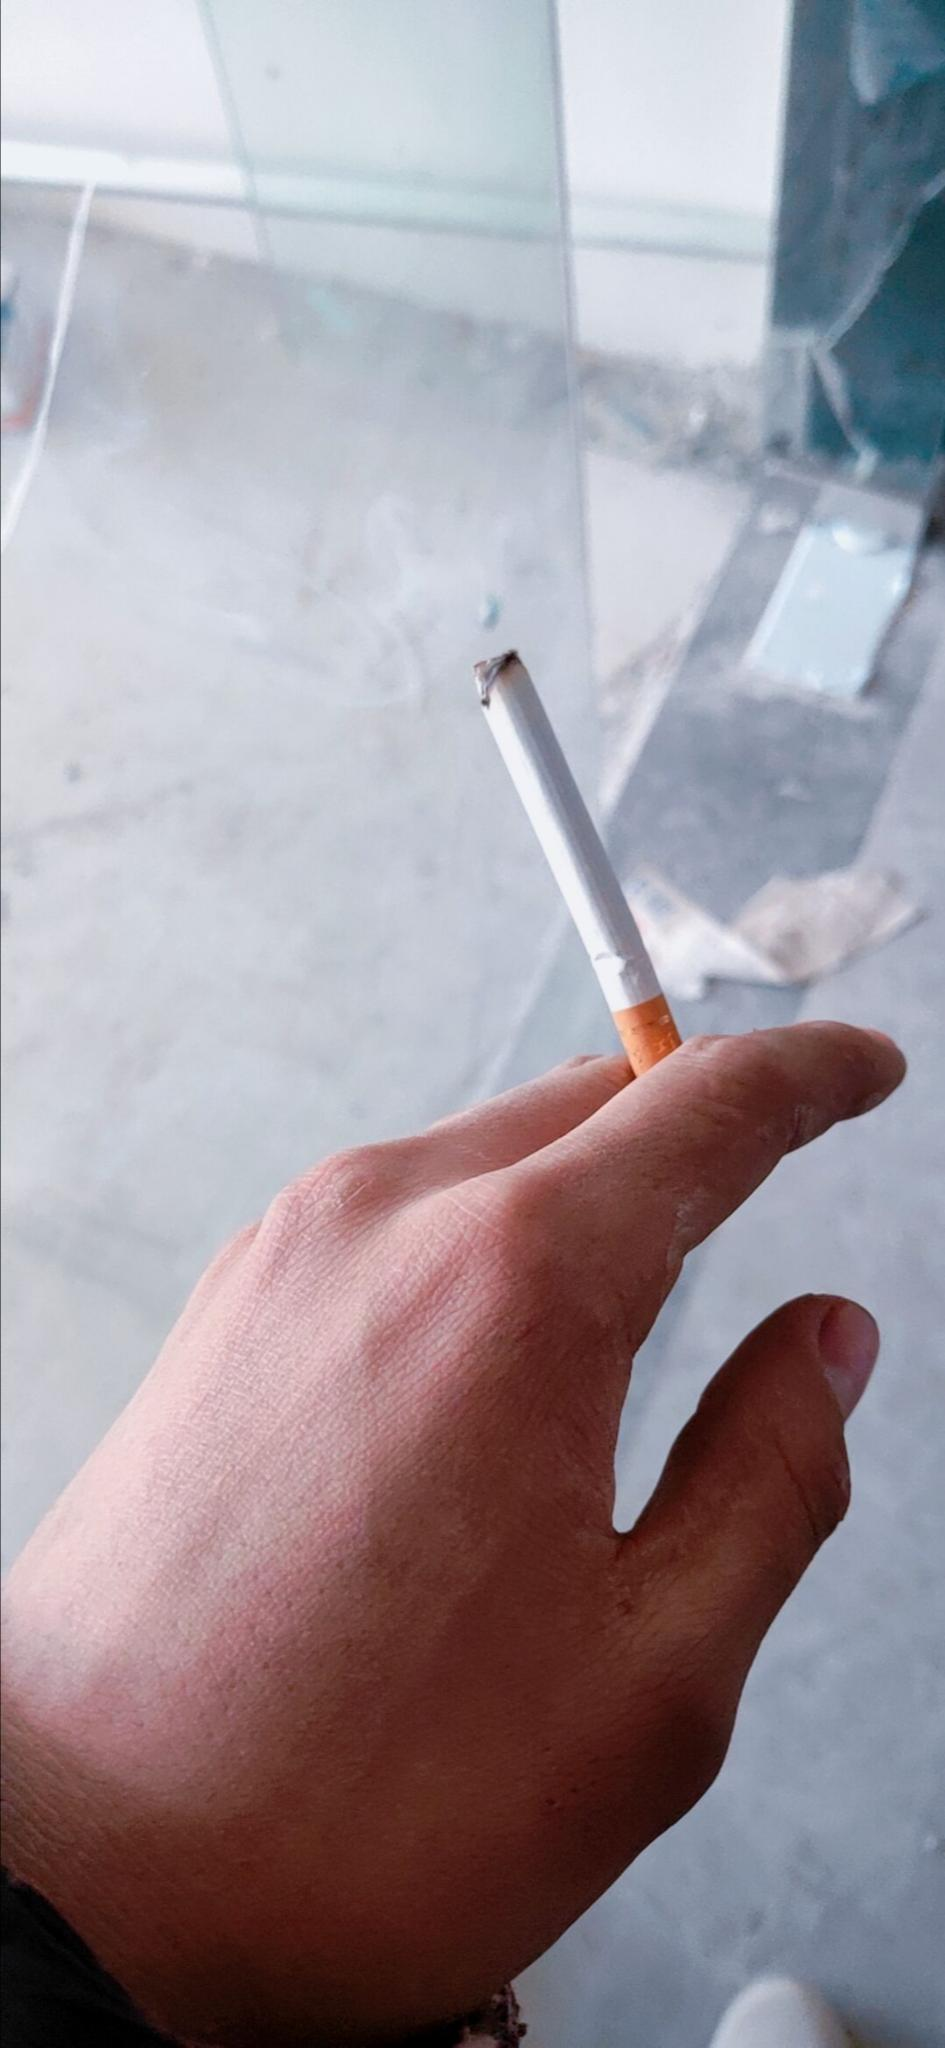Cigarette: (461, 632, 685, 1078)
